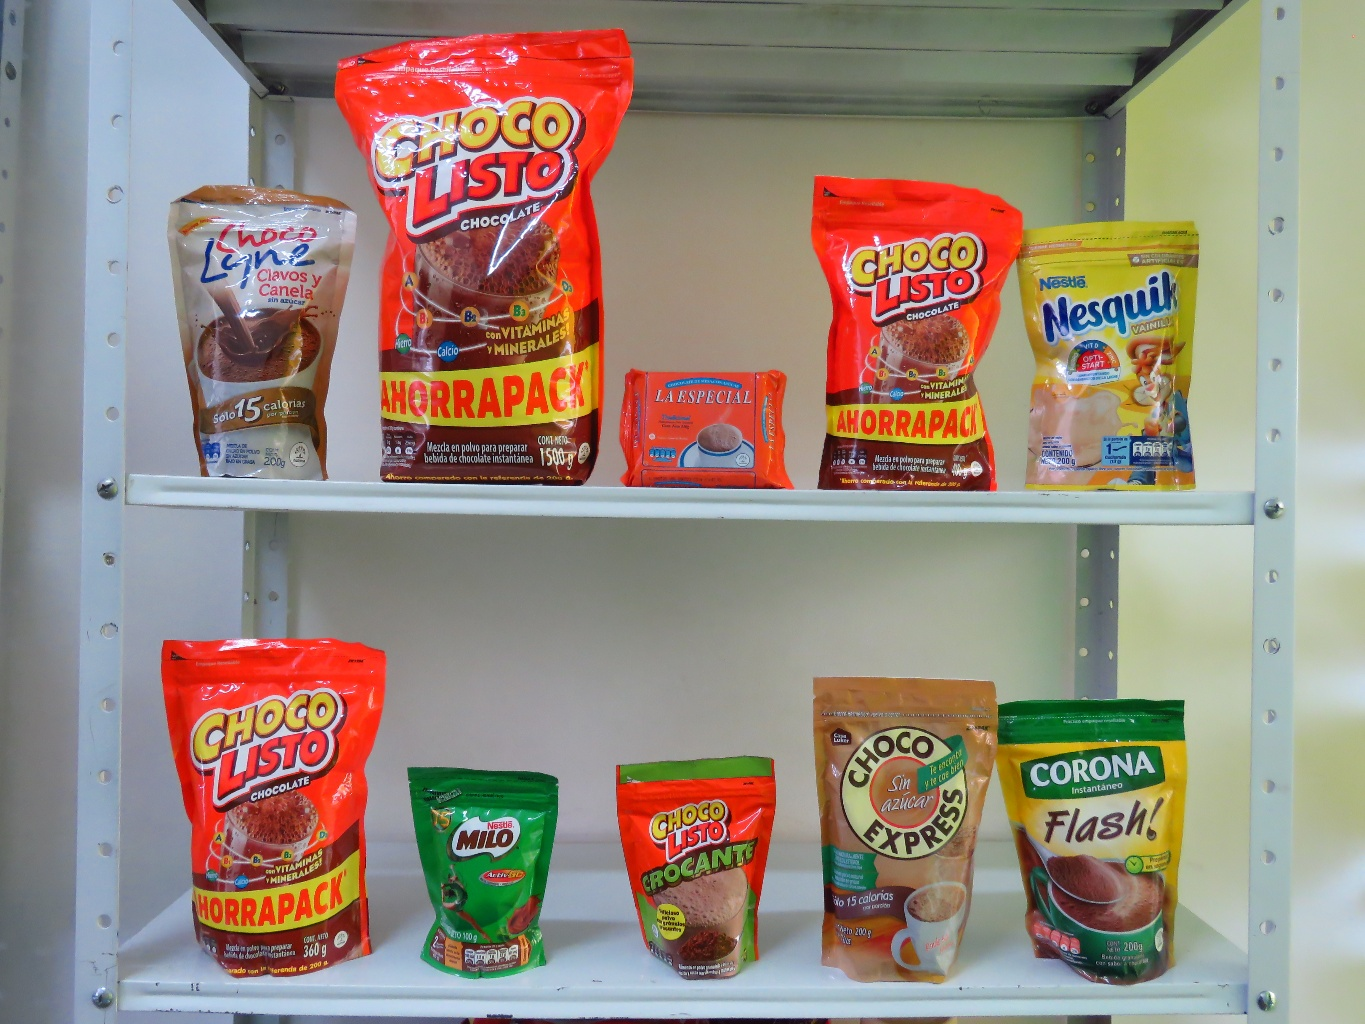COL0170102DYP10000: (603, 738, 796, 995)
COL0170103DYP1,500: (323, 14, 646, 493)
COL0170103DYP36000: (124, 623, 422, 991)
COL0170103DYP40000: (788, 160, 1029, 500)
COL0170203DYP10000: (403, 750, 598, 999)
COL0170306DYP20000: (994, 185, 1224, 497)
